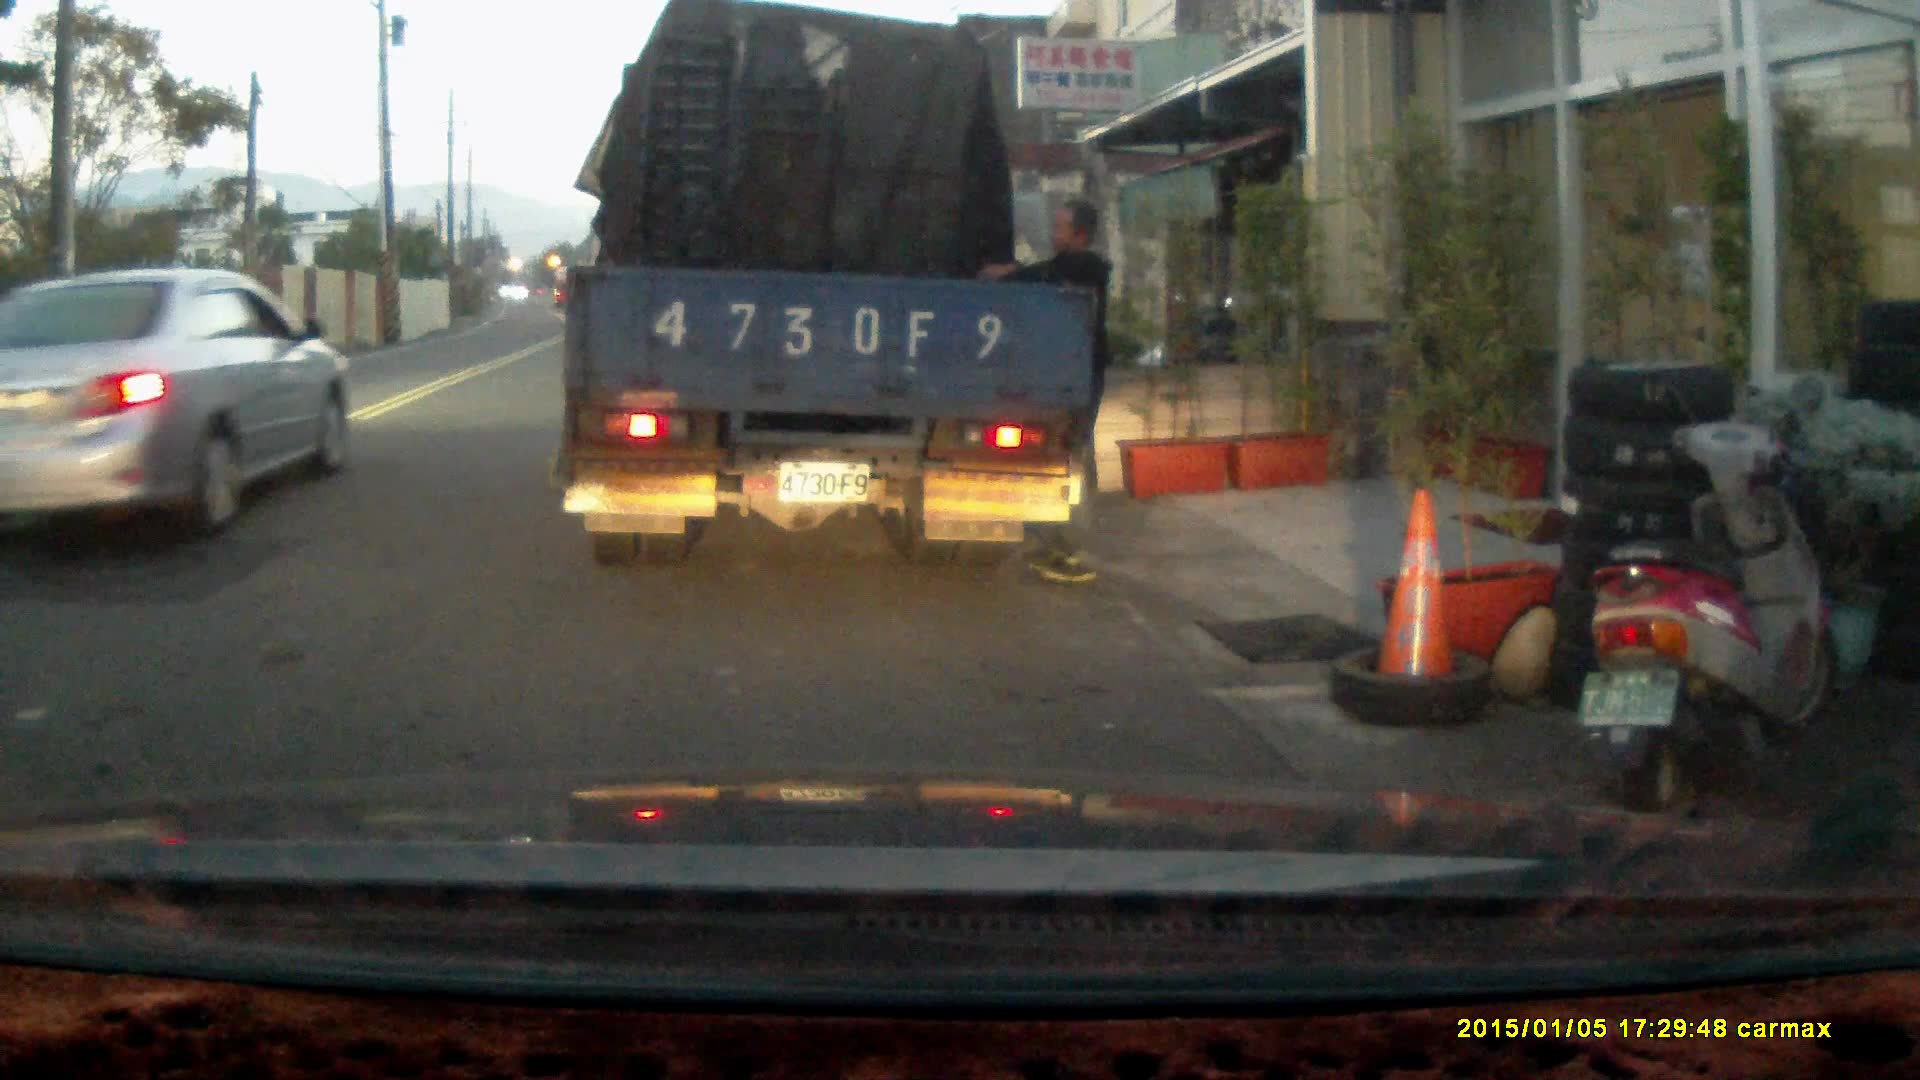pedestrian: (983, 198, 1114, 583)
vehicle: (565, 23, 1097, 572), (1, 265, 372, 553)
